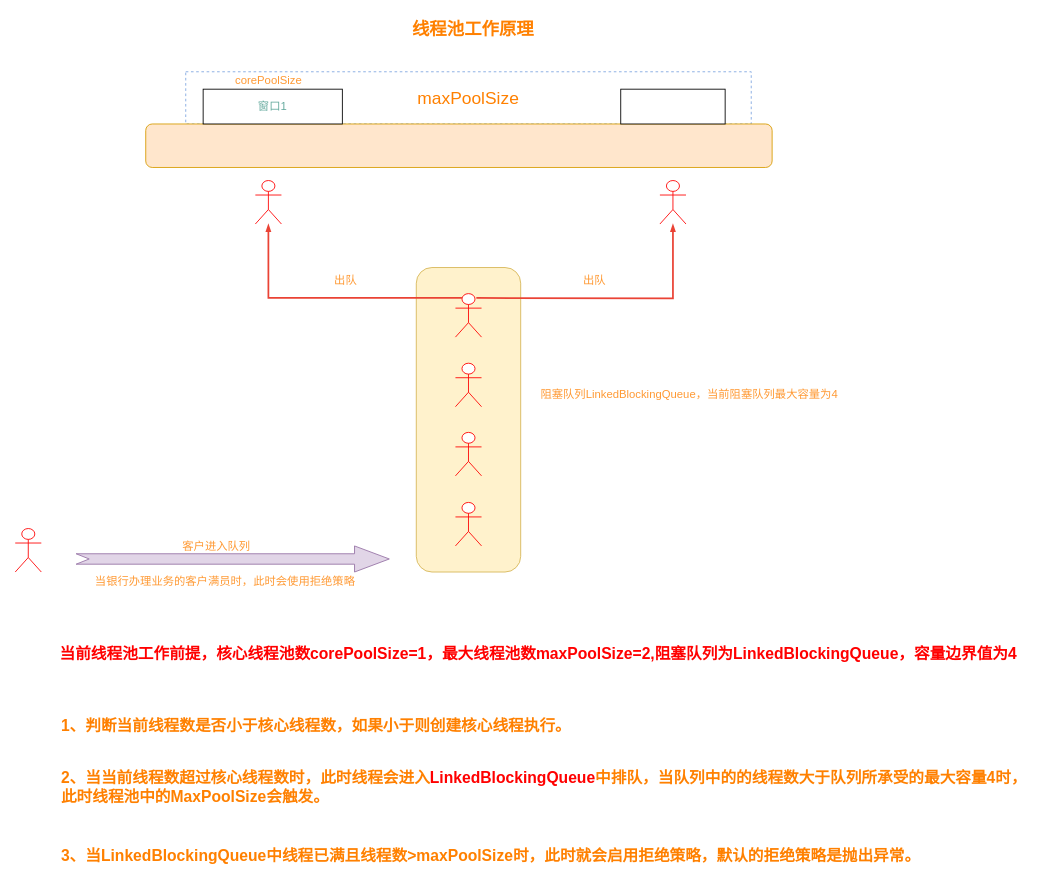
This 1058x882 diagram has some shape labels left out. The centre of each missing label's shape, as x and y in pixels:
"窗口2" belongs at (672,106).
"银行柜台" belongs at (458,145).
